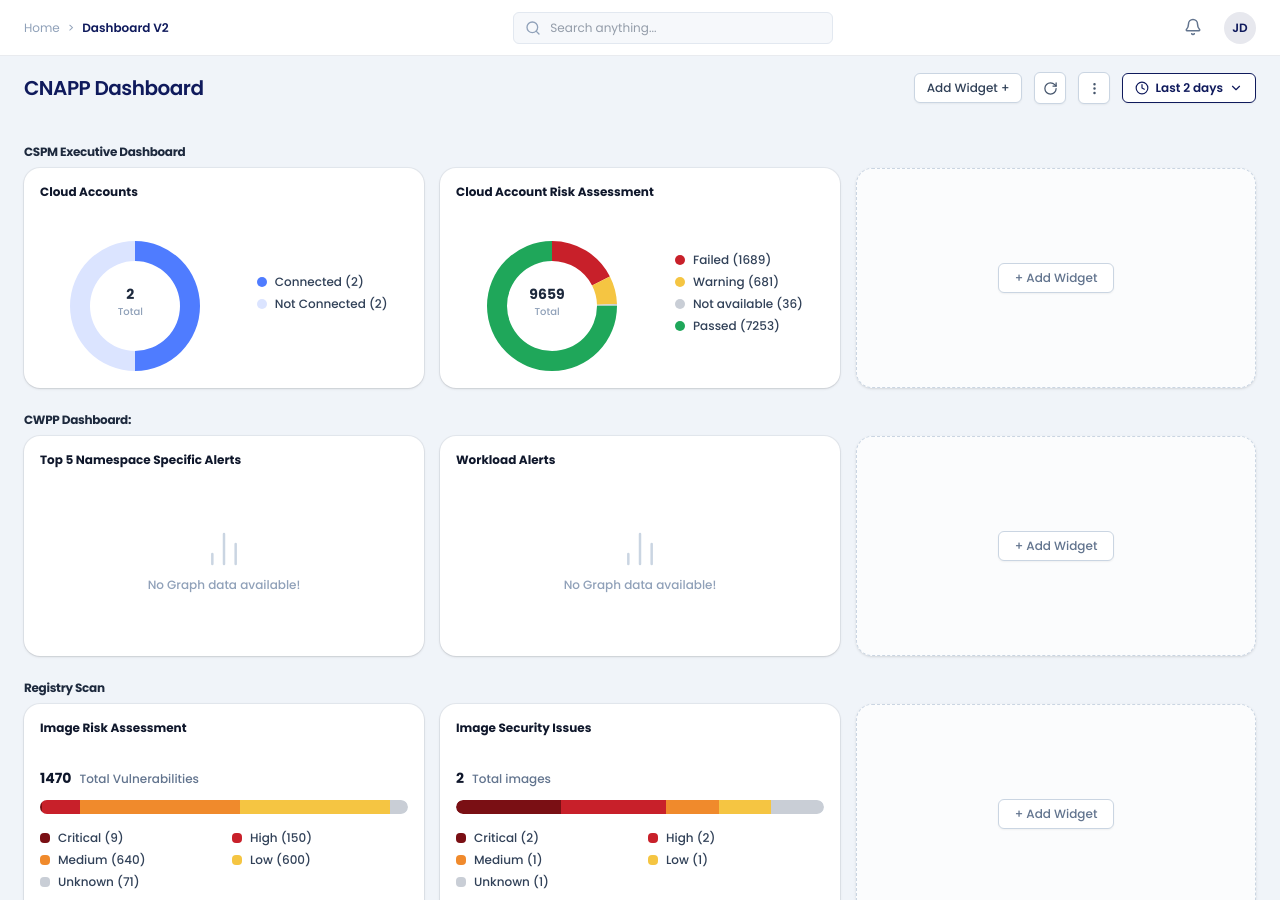
Test case: AddWidgetDrawer integration › section placeholder opens drawer on its own tab
Step 1. Click the 2nd button "+ Add Widget" → (1056, 546), box [998, 531, 1114, 561]
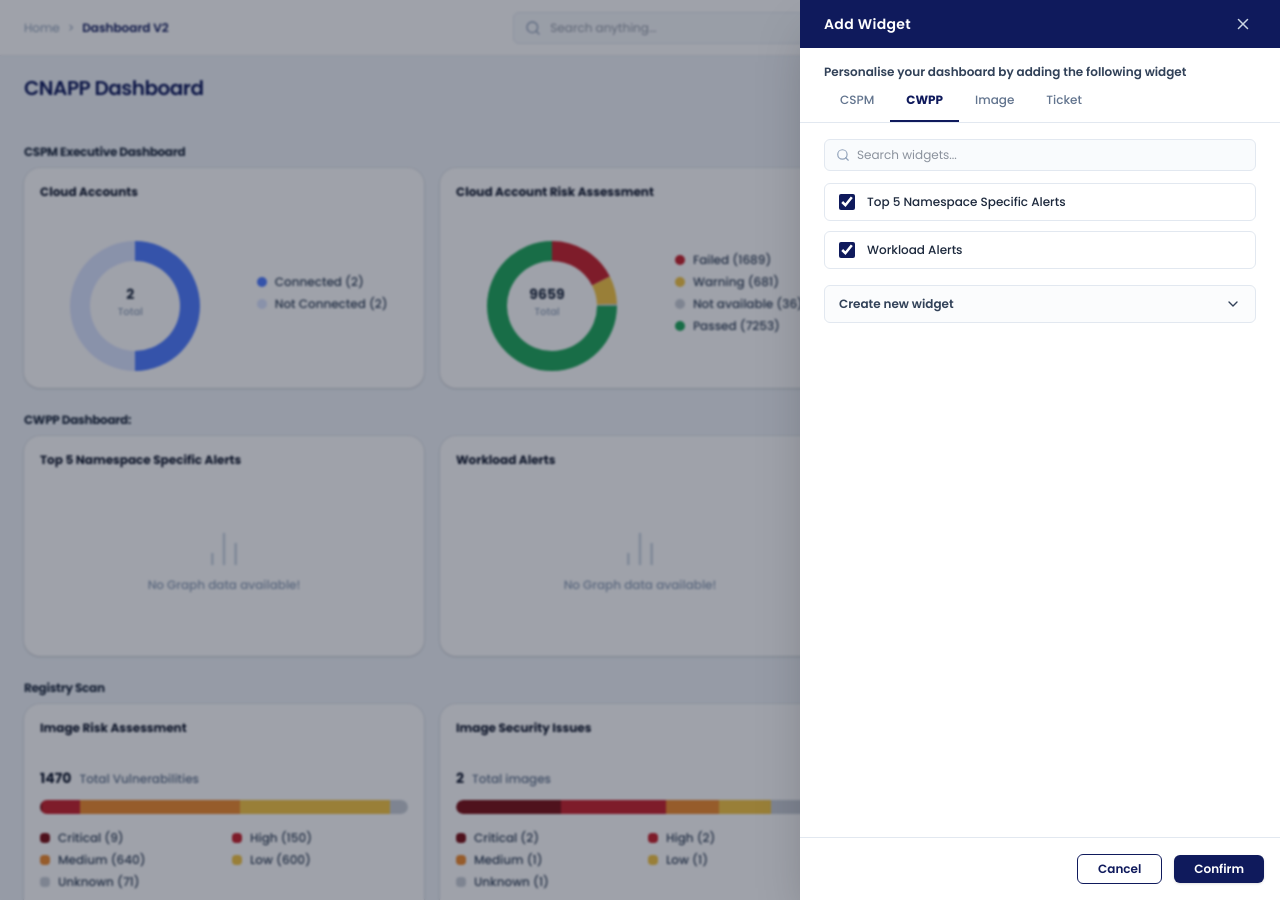
Expected: the dialog is shown, [800, 0, 1279, 899]
